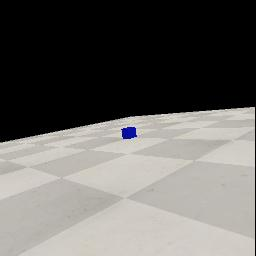box: (121, 127, 137, 139)
